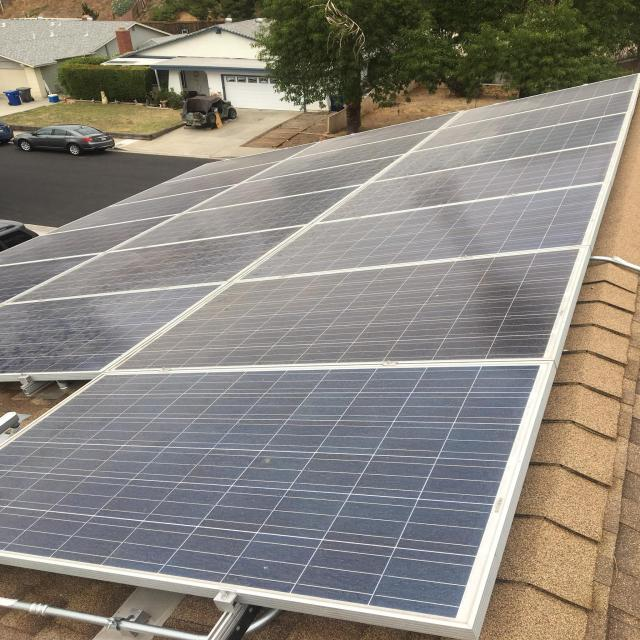dust-solar-panel: (0, 73, 637, 627)
